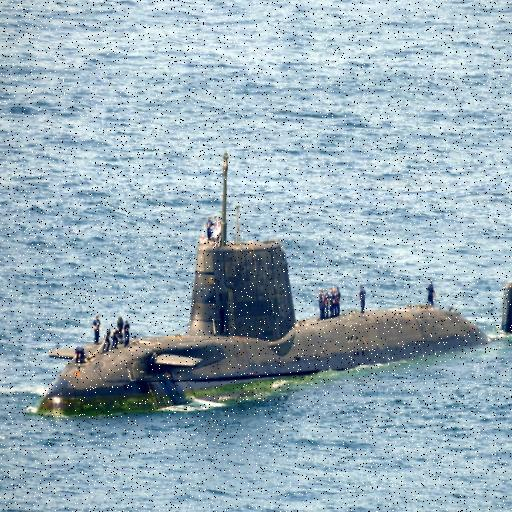submarine: (37, 148, 512, 420)
